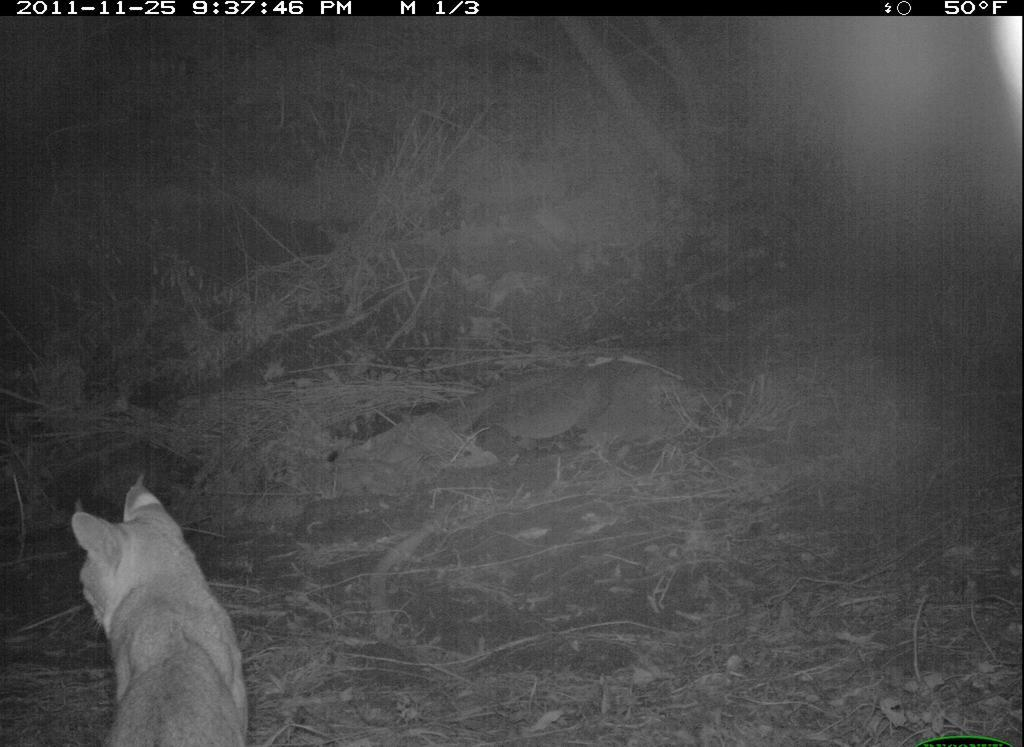bobcat: (64, 463, 258, 747)
